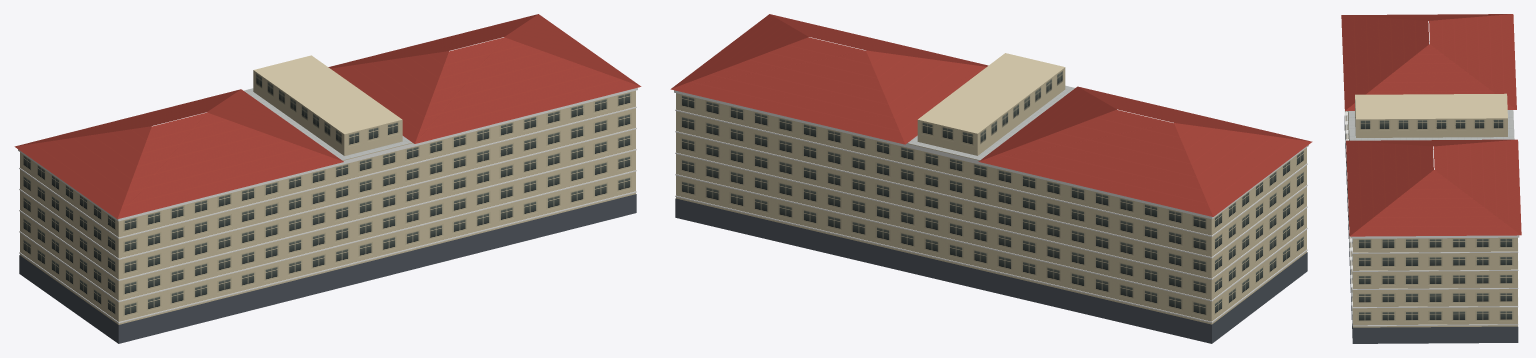
File: dorm_qinyuan_f4.glb
3 views of the same model, side by side, from view 1: azimuth 30°, elevation 25°; view 2: azimuth 150°, elevation 25°; view 3: azimuth 270°, elevation 25° (orthographic). The views are drawn at different scales.
Parts seen in each view (by area): view 1: 1316307763; view 2: 1316307763; view 3: 1316307763.
Part boxes in pixels (bbox=[...]): 1316307763: bbox=[14, 14, 641, 343]; 1316307763: bbox=[670, 14, 1312, 343]; 1316307763: bbox=[1341, 14, 1521, 343].
Bounding box in the file's own units: 81.63 × 23.71 × 27.94.
4 materials, 3 textured.
